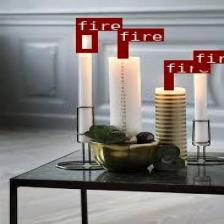fire: (75, 30, 96, 52), (192, 50, 206, 69), (117, 41, 127, 58), (163, 73, 172, 89)
